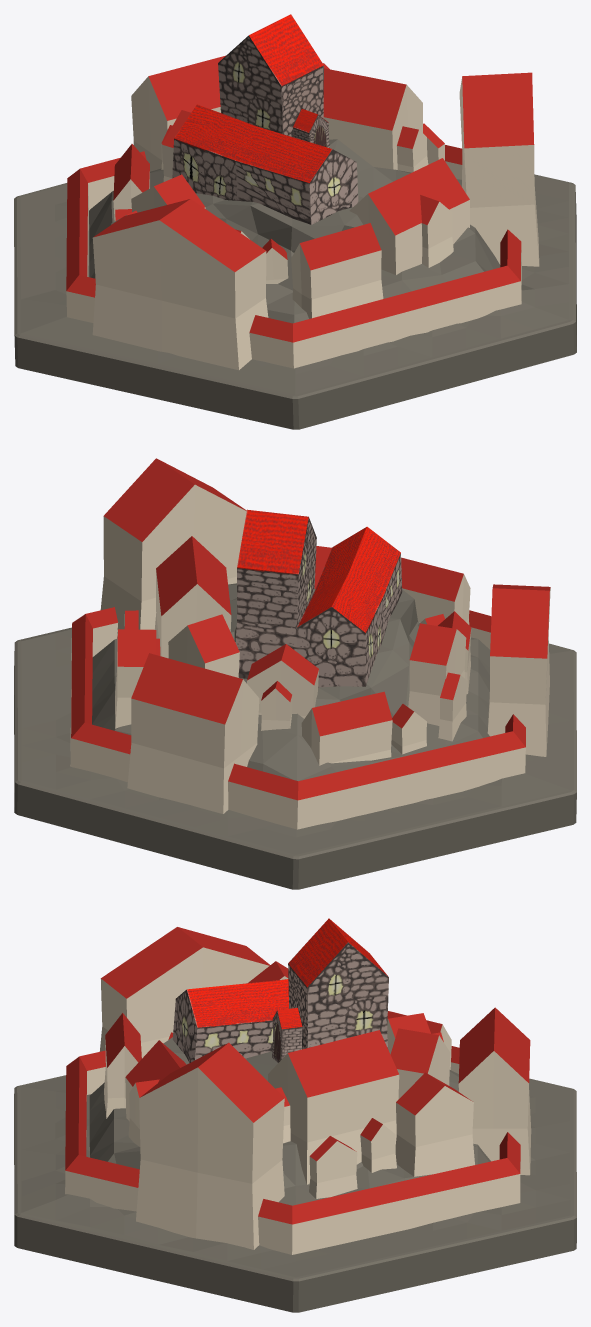
Rendered from town.fbx.
3 renders of one model, top to bottom at view 1: azimuth 30°, elevation 25°; view 2: azimuth 150°, elevation 25°; view 3: azimuth 270°, elevation 25°, orthographic.
Parts seen in each view (by area): view 1: Cube.001, BasePlate.003; view 2: Cube.001, BasePlate.003; view 3: Cube.001, BasePlate.003.
Part boxes in pixels (box(x1,y1,x2,y2)): Cube.001: box(66, 14, 539, 370); BasePlate.003: box(14, 139, 576, 429); Cube.001: box(70, 458, 550, 829); BasePlate.003: box(14, 583, 576, 889); Cube.001: box(65, 918, 531, 1254); BasePlate.003: box(14, 1037, 576, 1312).
Bounding box in the file's own units: 54.47 × 24.18 × 47.41.
